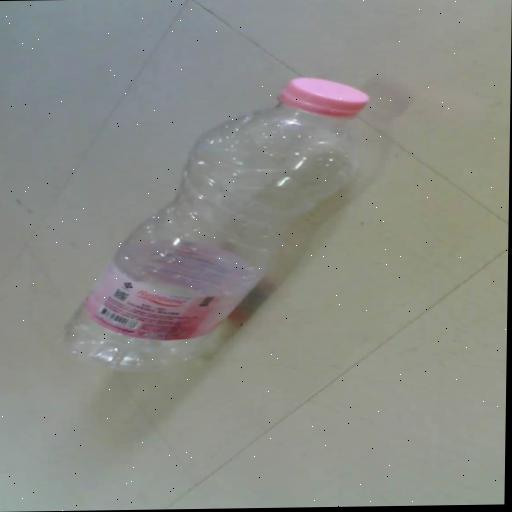bottle: (37, 36, 396, 395)
